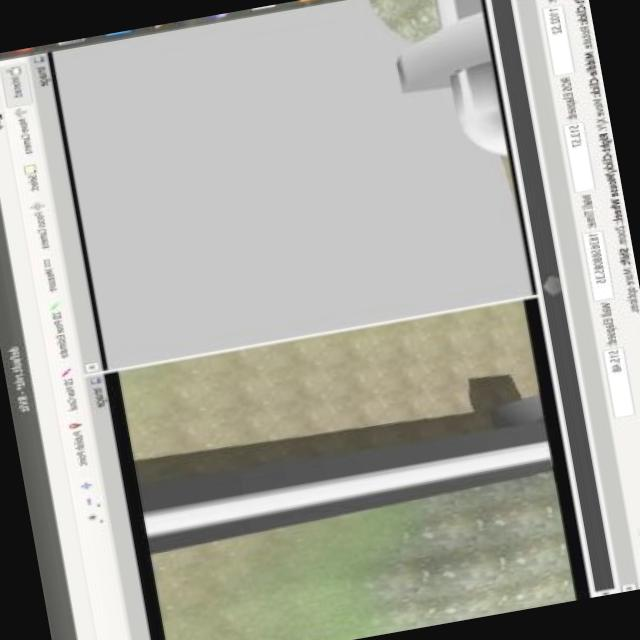gas: (139, 435, 549, 541), (425, 0, 507, 157)
